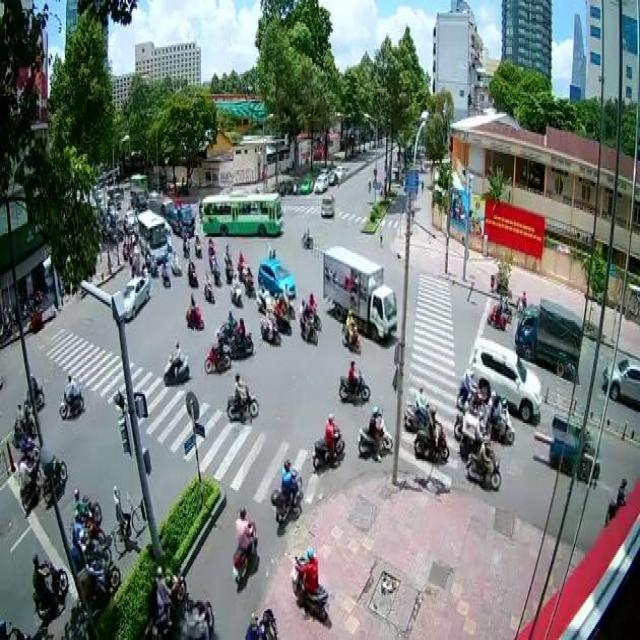bicycle: (111, 479, 146, 552)
bus: (201, 192, 283, 238)
car: (470, 334, 540, 425), (515, 293, 581, 378), (480, 387, 515, 446), (257, 253, 295, 300), (455, 367, 486, 418), (118, 273, 150, 320), (319, 190, 334, 219)
motorcycle: (532, 412, 600, 483), (290, 542, 329, 620), (146, 562, 184, 638), (31, 552, 68, 620), (270, 457, 302, 530), (464, 434, 502, 492), (600, 352, 640, 407), (310, 408, 344, 472), (356, 403, 393, 461), (412, 403, 449, 461), (403, 382, 435, 436), (226, 369, 258, 421), (336, 356, 371, 403), (16, 452, 39, 513), (163, 335, 190, 385), (57, 370, 83, 420), (203, 327, 231, 371), (228, 318, 253, 358), (299, 295, 318, 347), (341, 306, 361, 352), (260, 307, 281, 347), (484, 293, 505, 331), (184, 291, 203, 327), (228, 270, 242, 306), (202, 267, 215, 302), (186, 253, 198, 286), (301, 220, 312, 250), (193, 230, 202, 258), (183, 232, 191, 260)
truck: (322, 241, 397, 347)
